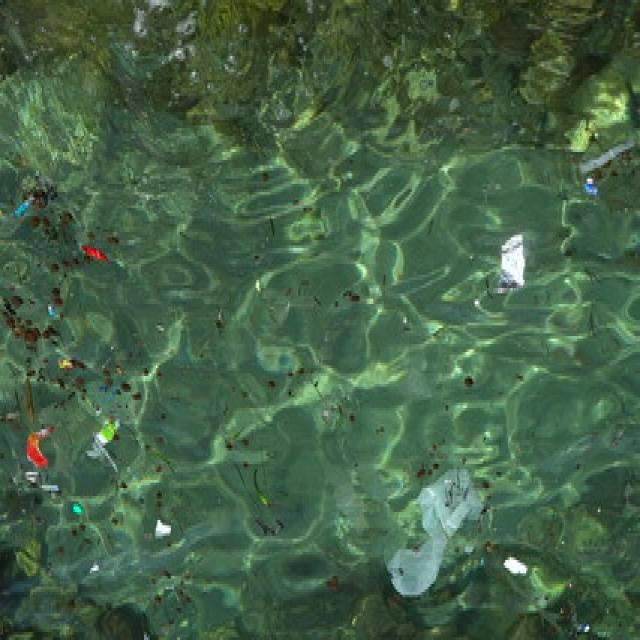Trash: (383, 460, 484, 601), (498, 233, 537, 296), (83, 408, 124, 464), (23, 422, 54, 474), (503, 555, 530, 584), (149, 517, 174, 538)
